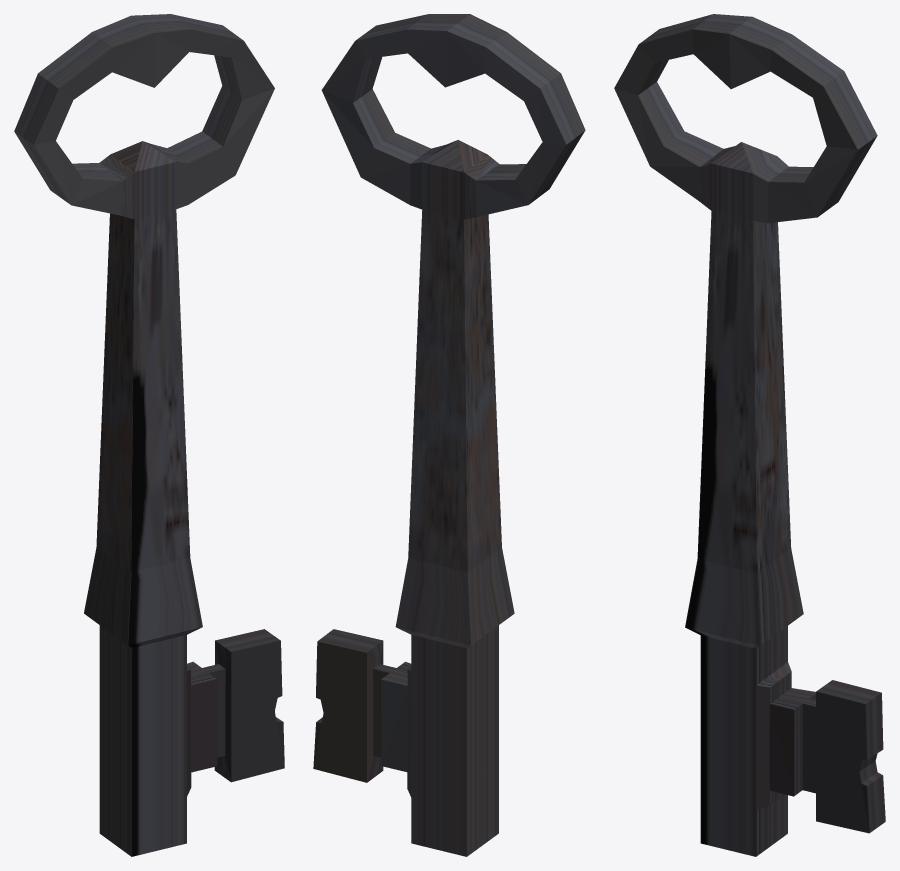
Rendered from Key.fbx.
The picture shows the model from 3 angles, left to right: view 1: azimuth 30°, elevation 25°; view 2: azimuth 150°, elevation 25°; view 3: azimuth 330°, elevation 25°; orthographic projection.
Visible parts, largest first — view 1: Key; view 2: Key; view 3: Key.
Part boxes in pixels (bbox=[...]): Key: bbox=[14, 14, 284, 856]; Key: bbox=[313, 14, 585, 856]; Key: bbox=[614, 14, 885, 856].
Bounding box in the file's own units: 55.42 × 170 × 16.49.
